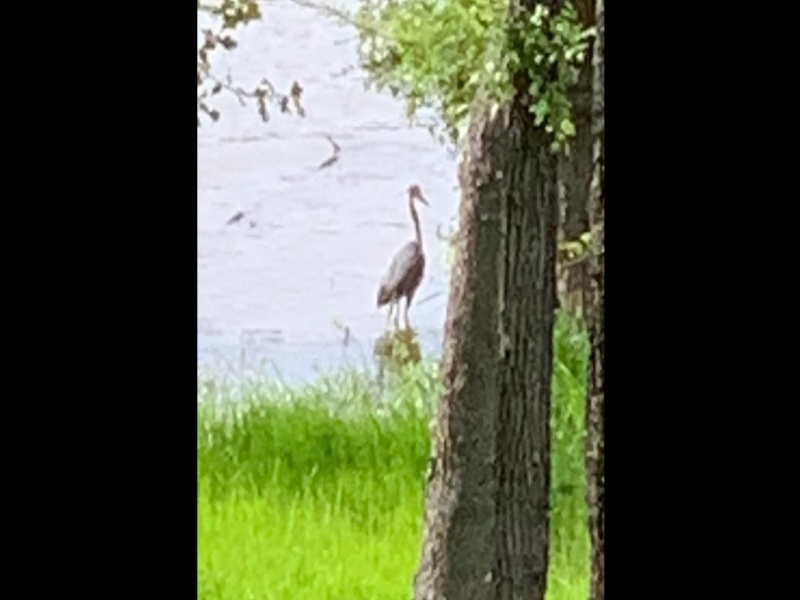heron: (374, 184, 431, 340)
